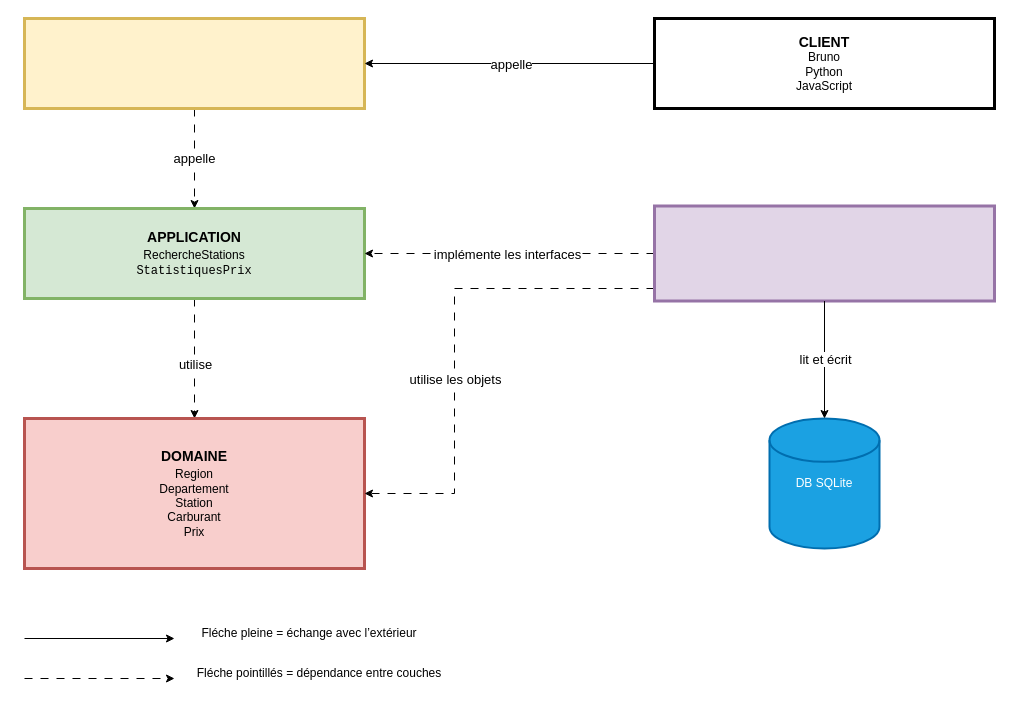
Image size: 1013x706. Some labels were removed from this diagram. Here are the shapes that lost their labels. From the top down, the box of each, then its label:
(22, 16, 366, 110): PRESENTATION StationResource PrixResource
(652, 204, 996, 302): INFRASTRUCTURE SqliteStationRepository SqlitePrixRepository
